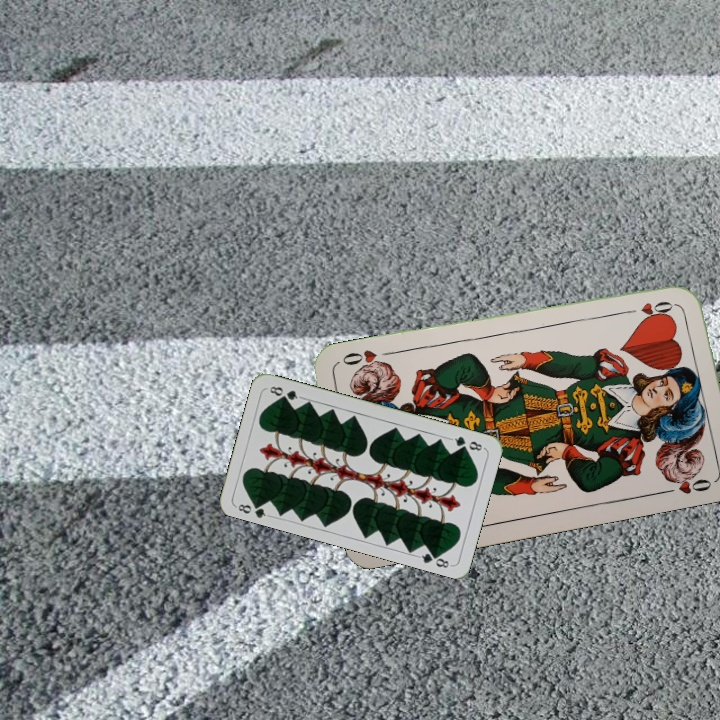G8: (232, 497, 272, 520), (447, 432, 487, 453)
HO: (620, 297, 679, 318)
